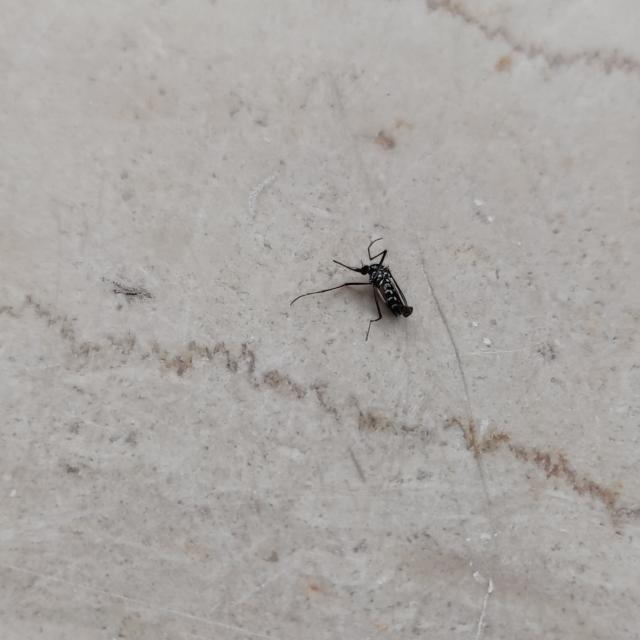albopictus: (290, 227, 418, 336)
